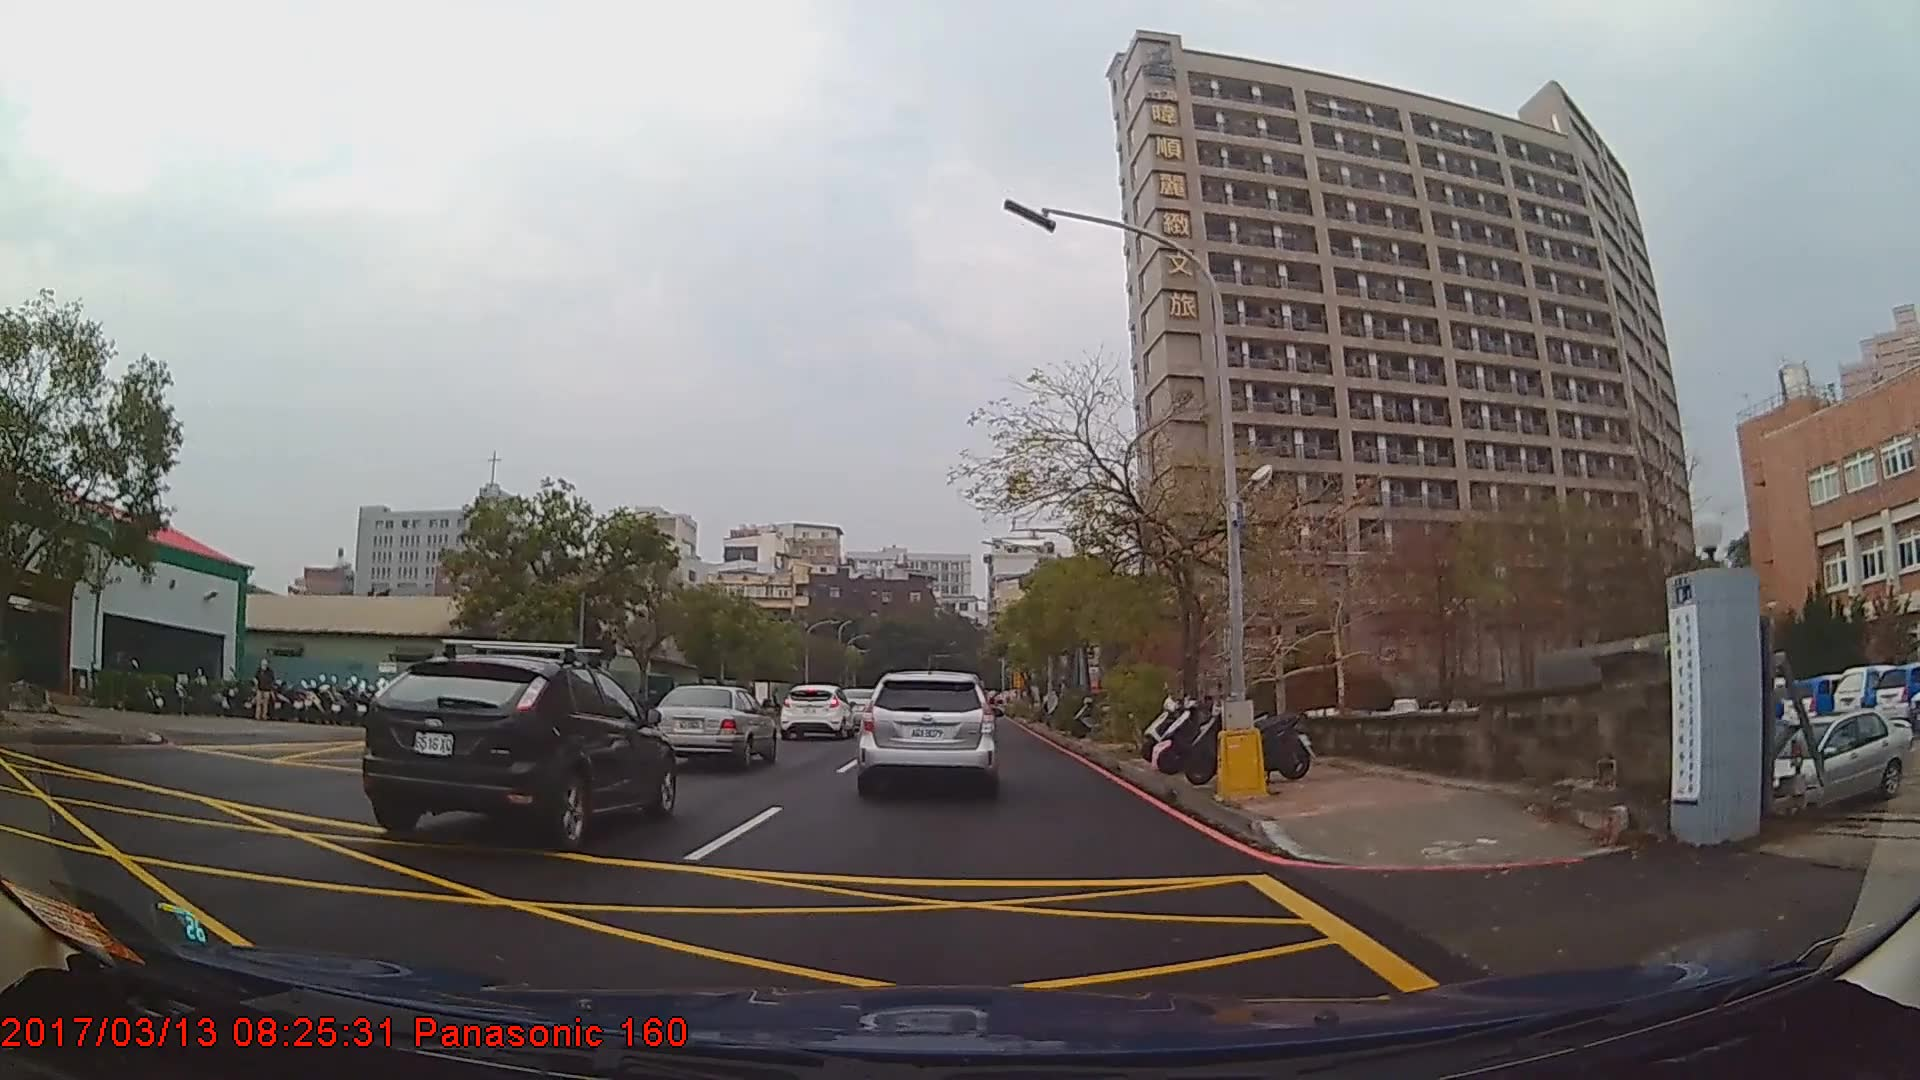pedestrian: (254, 660, 276, 721)
vehicle: (359, 653, 675, 843), (1747, 705, 1915, 813), (858, 666, 995, 796), (650, 682, 777, 770), (780, 683, 856, 742)
